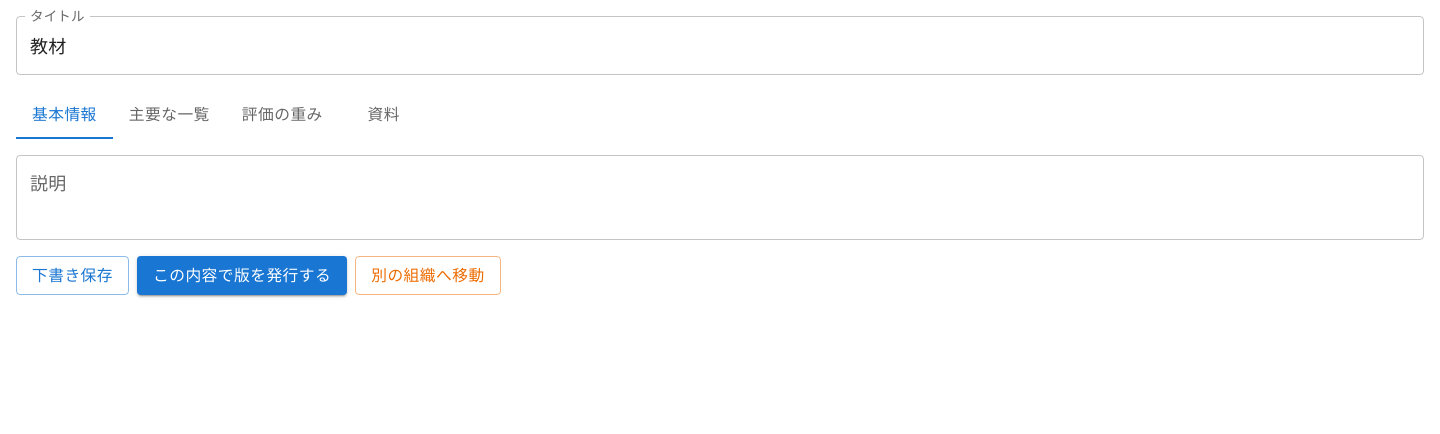
Scenario: TemplateEditorPage › updates editable title and description from selected materials without saving when APPROVED
Click the tab "資料" at (384, 115), box [339,91,429,139]
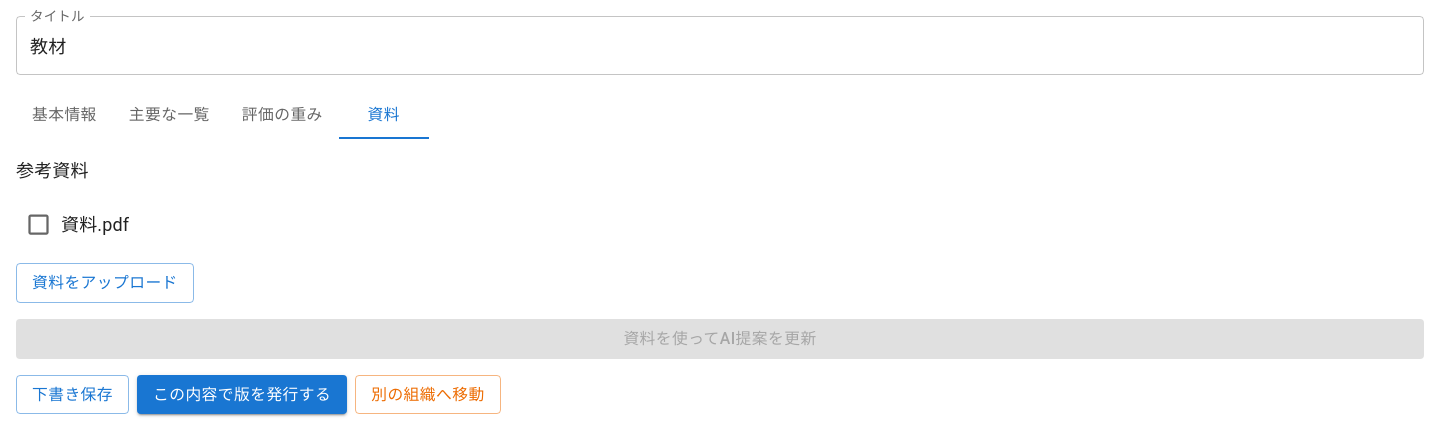
Result: the checkbox labelled "資料.pdf" is shown
Click the checkbox labelled "資料.pdf" at (77, 225), box [25,211,129,238]
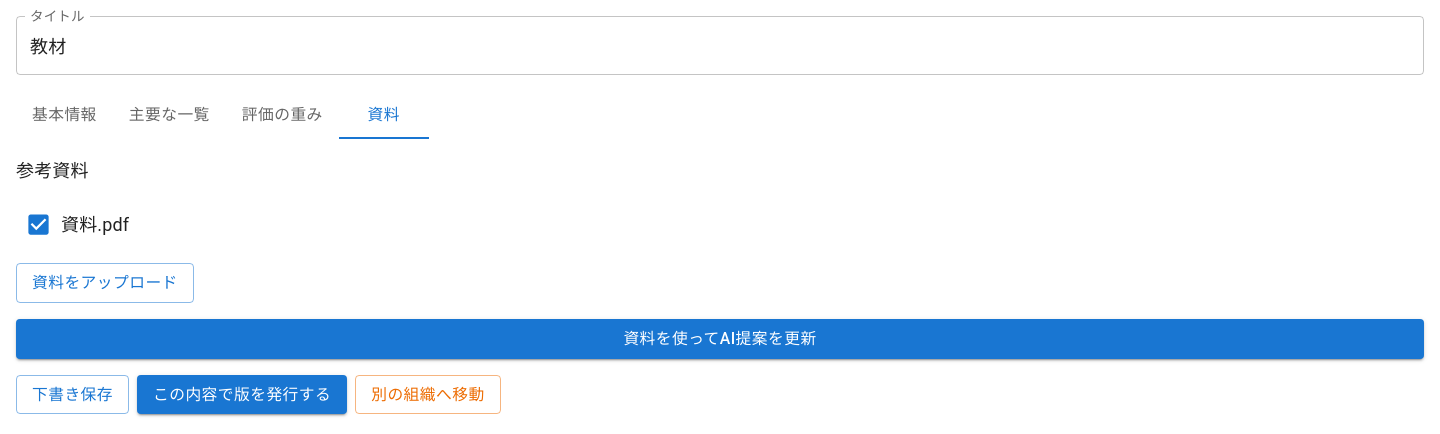
Click the button "資料を使ってAI提案を更新" at (720, 339), box [16,319,1424,358]
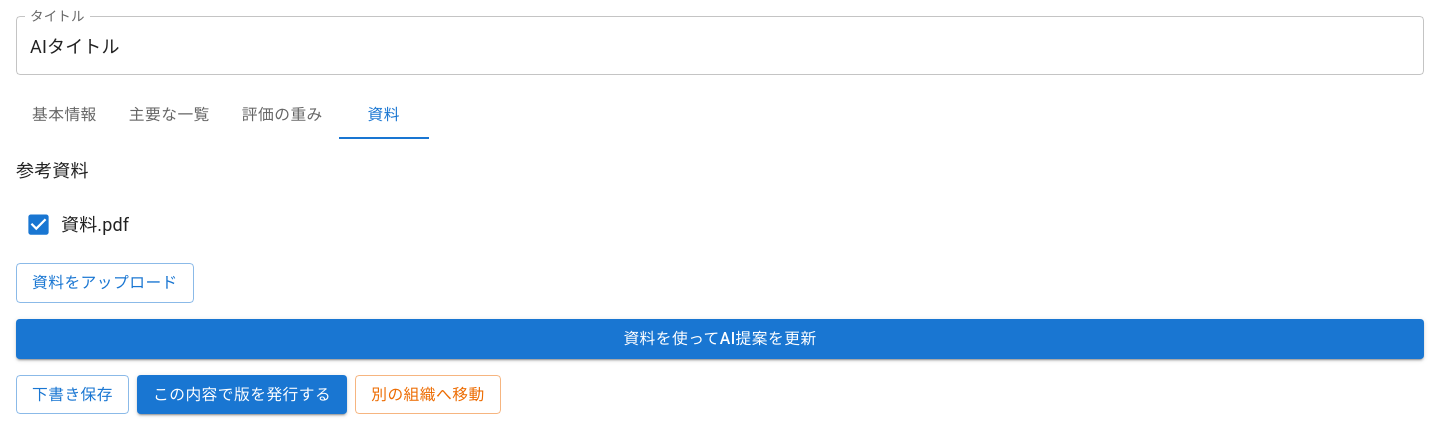
Result: the field labelled "タイトル" holds "AIタイトル" at [16,16,1424,75]
Click the tab "基本情報" at (64, 115), box [16,91,113,139]
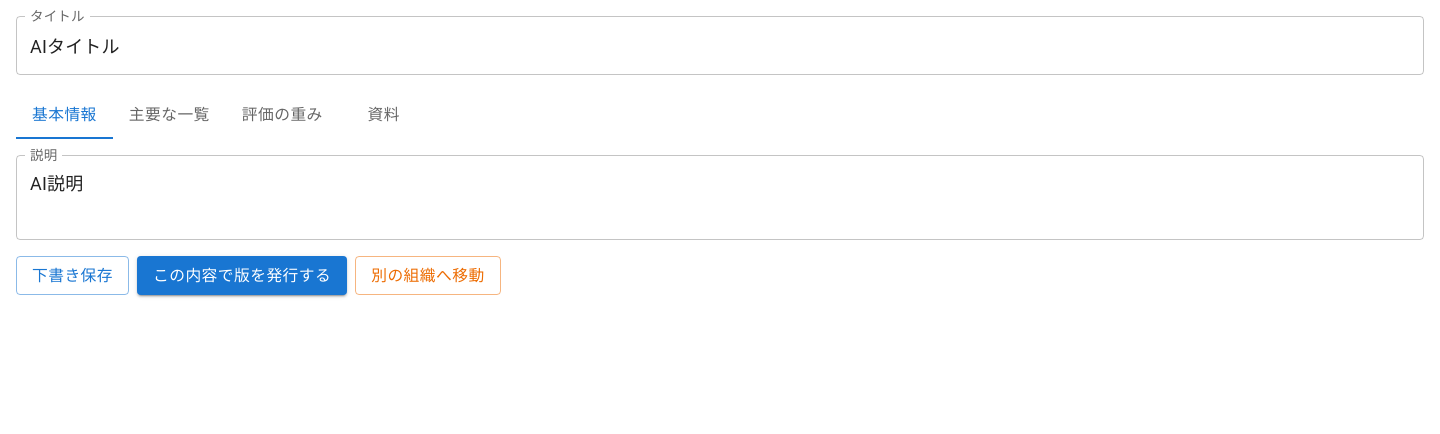
Result: the text box labelled "説明" holds "AI説明" at [30,171,1410,223]
